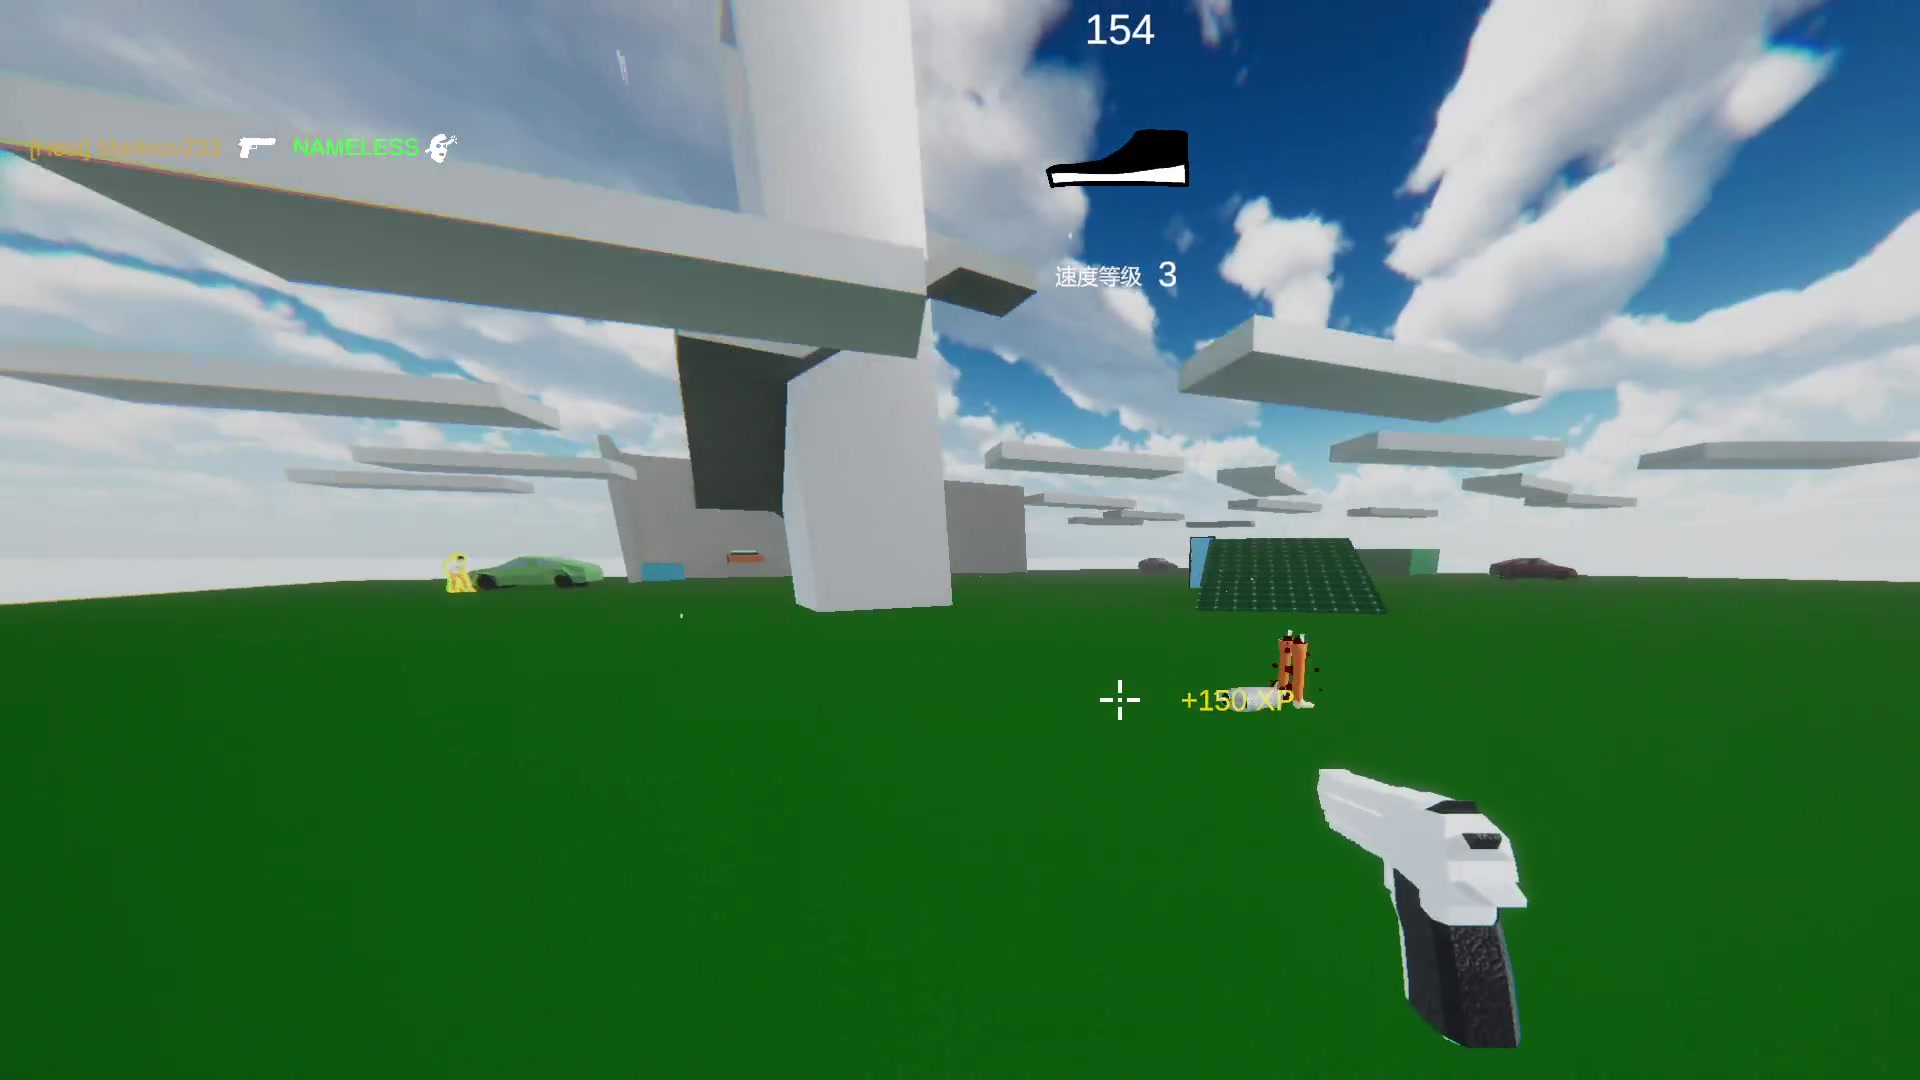died: (1199, 627, 1329, 732)
human: (446, 550, 470, 595)
